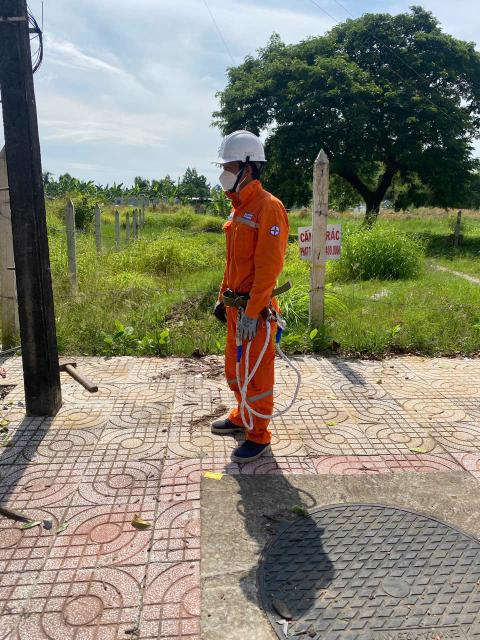gloves: (230, 313, 268, 351), (210, 295, 235, 324)
harness: (218, 283, 266, 313)
helmet: (208, 126, 278, 172)
shoes: (223, 428, 270, 477), (199, 409, 259, 443)
